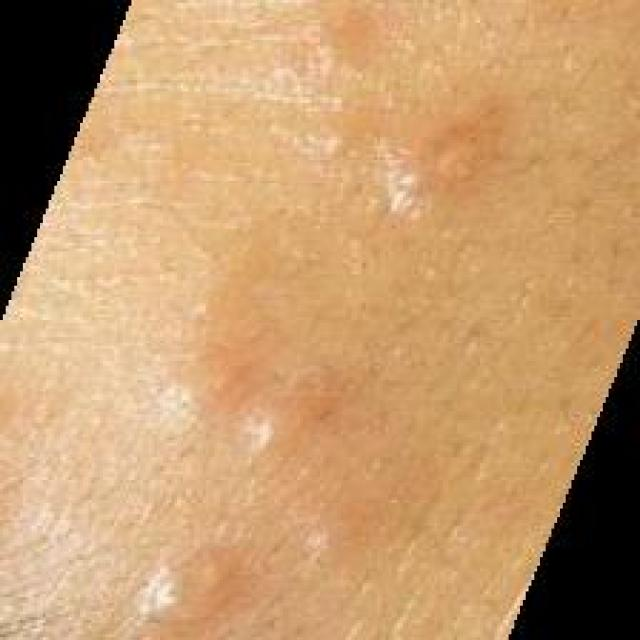others: (102, 57, 512, 612)
